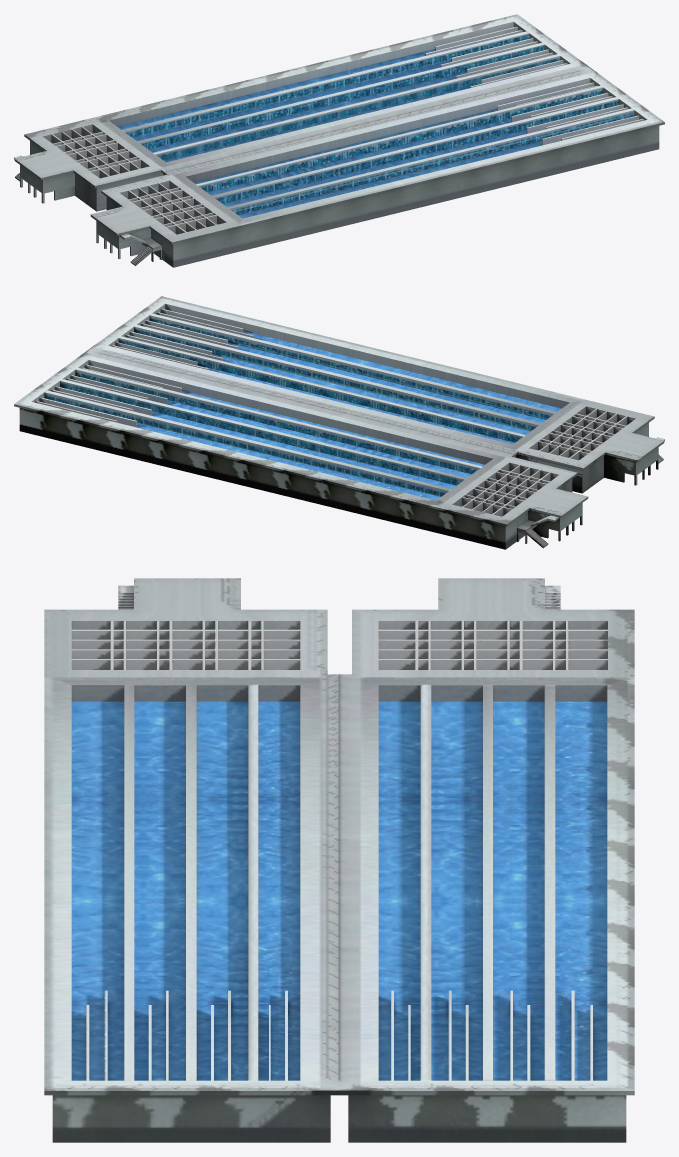
File: build9YNSCYQ.glb
The picture shows the model from 3 angles, top to bottom: view 1: azimuth 30°, elevation 25°; view 2: azimuth 150°, elevation 25°; view 3: azimuth 270°, elevation 25°; orthographic projection. The views are drawn at different scales.
Parts seen in each view (by area): view 1: bulid9YNSCYQ; view 2: bulid9YNSCYQ; view 3: bulid9YNSCYQ.
Boxes of the visible parts, x1,y1,x2,y2 form: bulid9YNSCYQ: (14, 14, 664, 267); bulid9YNSCYQ: (14, 296, 664, 549); bulid9YNSCYQ: (44, 578, 634, 1142).
Size of the model in its own units: 6860 by 352 by 3338.
Materials: 1 (1 with a texture image).
